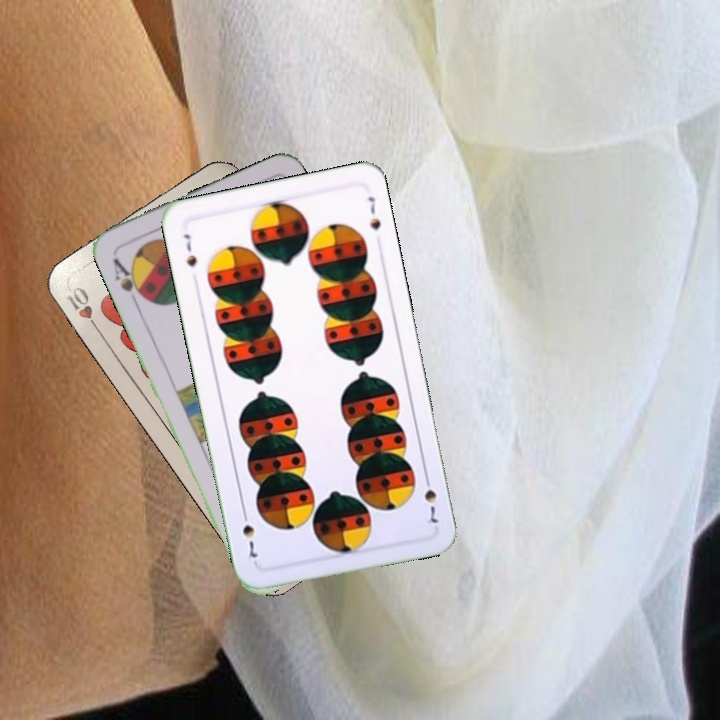H10: (61, 282, 104, 336)
S7: (420, 470, 442, 526), (179, 230, 200, 270)
SA: (109, 254, 149, 307)
